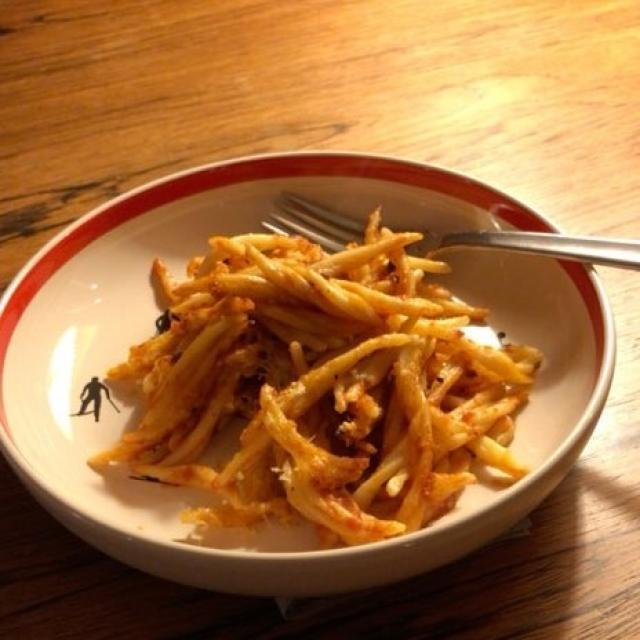pasta: (97, 224, 532, 537)
